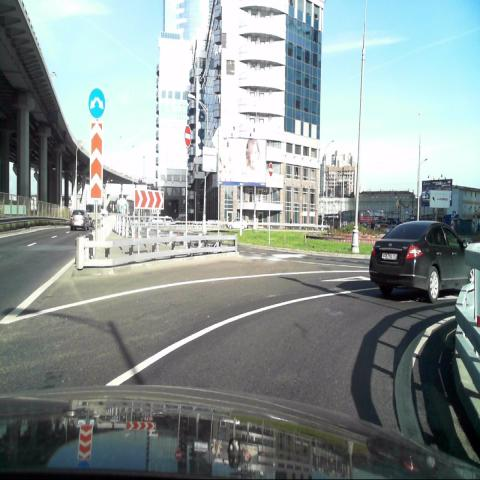4_2_3: (87, 86, 105, 118)
